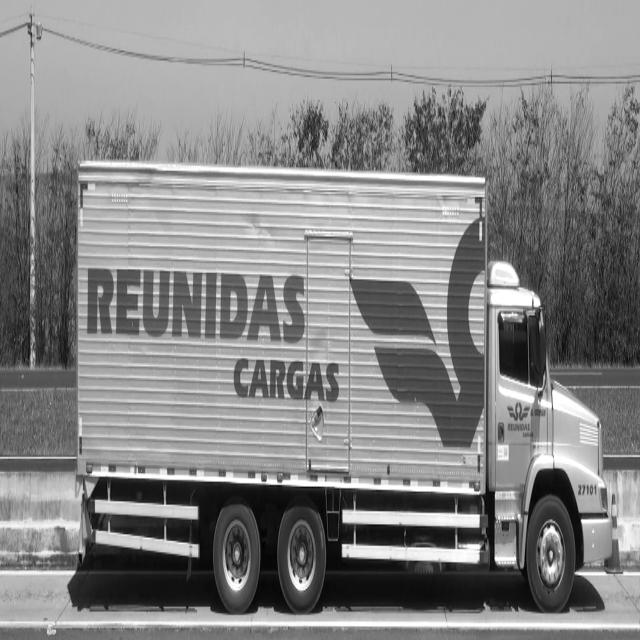Truck: (78, 160, 612, 611)
